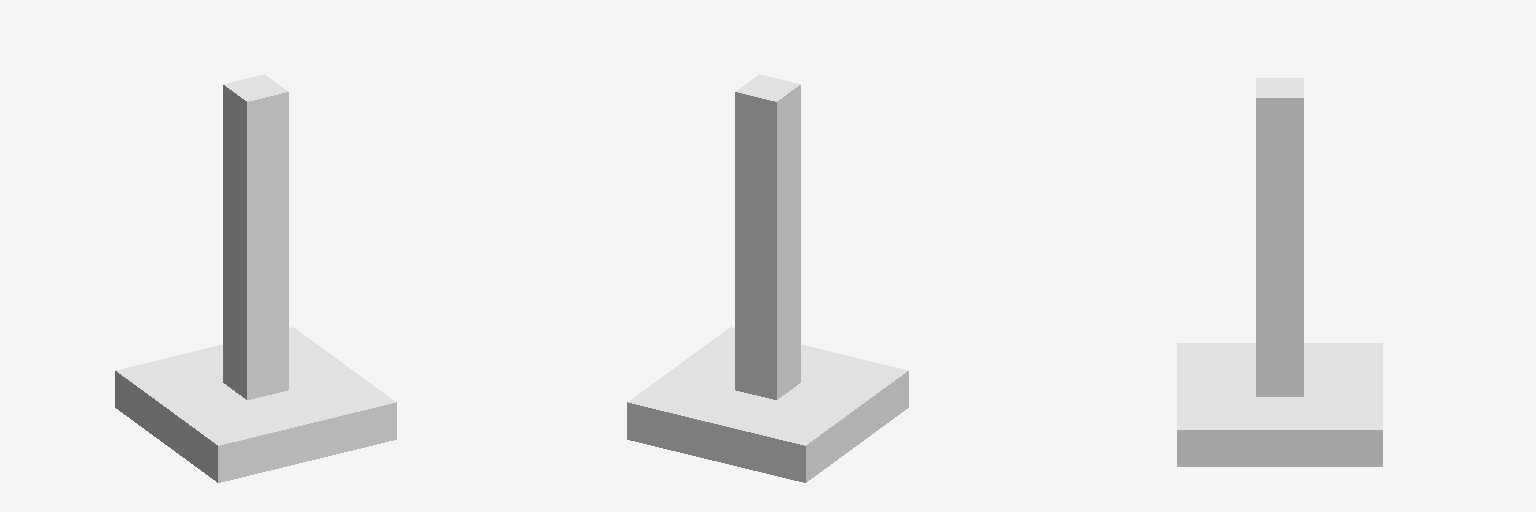
The model's file is markerpole.obj.
The picture shows the model from 3 angles: view 1: azimuth 30°, elevation 25°; view 2: azimuth 150°, elevation 25°; view 3: azimuth 270°, elevation 25°; orthographic projection.
Parts seen in each view (by area): view 1: pole; view 2: pole; view 3: pole.
Boxes of the visible parts, x1,y1,x2,y2 form: pole: [115, 74, 396, 482]; pole: [627, 74, 908, 482]; pole: [1177, 78, 1382, 466].
Size of the model in its own units: 0.5 by 0.9 by 0.5.